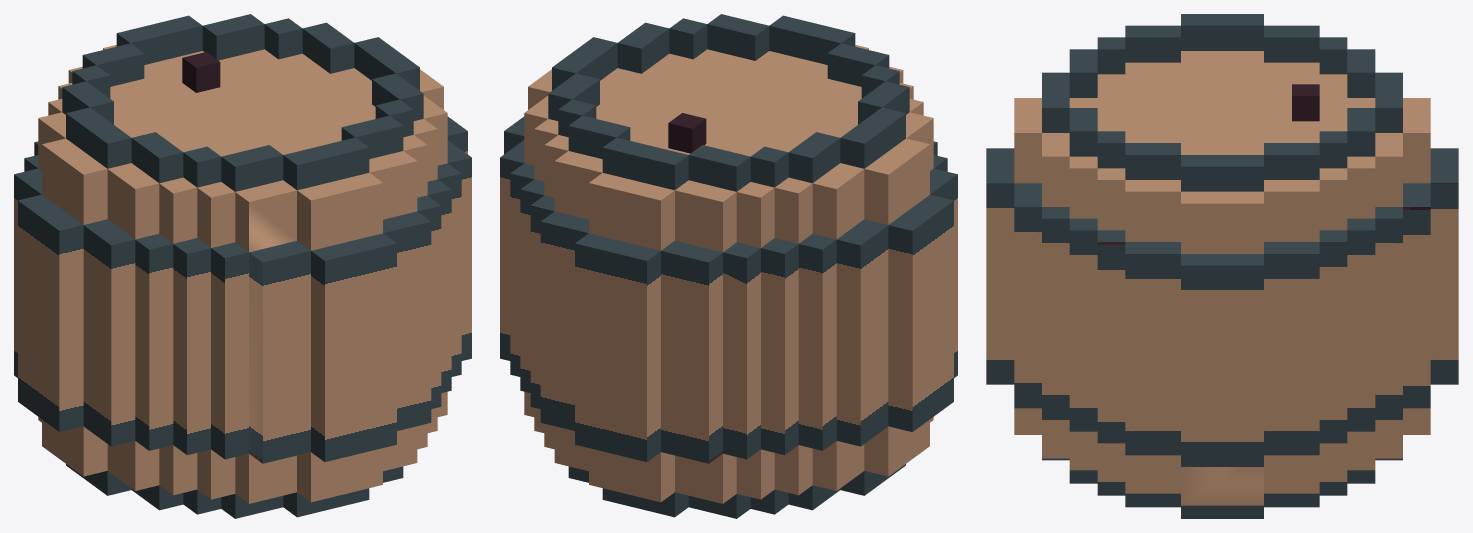
Rendered from Barrel.fbx.
3 renders of one model, left to right at view 1: azimuth 30°, elevation 25°; view 2: azimuth 150°, elevation 25°; view 3: azimuth 270°, elevation 25°, orthographic.
Visible parts, largest first — view 1: Untitled.024; view 2: Untitled.024; view 3: Untitled.024.
Part boxes in pixels (box(x1,y1,x2,y2)): Untitled.024: box(14, 14, 471, 518); Untitled.024: box(500, 14, 957, 518); Untitled.024: box(986, 14, 1458, 518).
Size of the model in its own units: 170 by 140 by 170.
